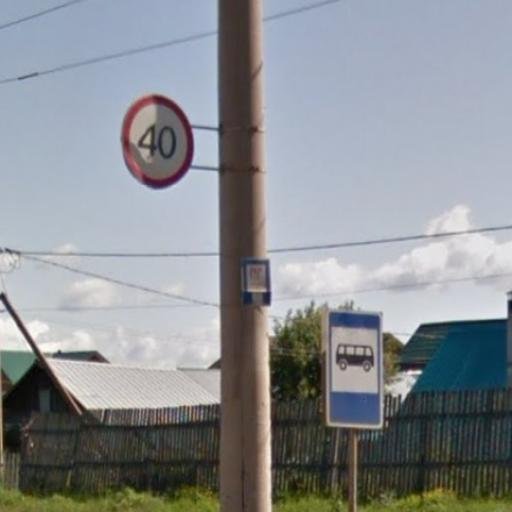traffic_sign: (325, 309, 385, 433), (121, 93, 196, 192)
